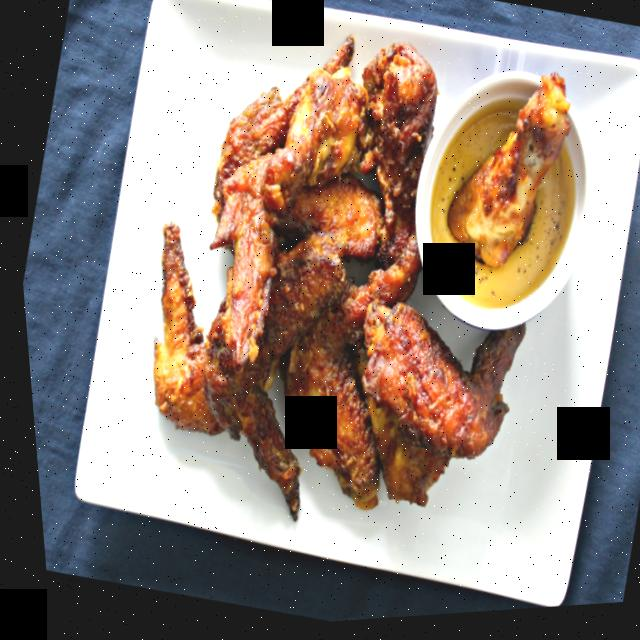Frango: (416, 59, 590, 296)
